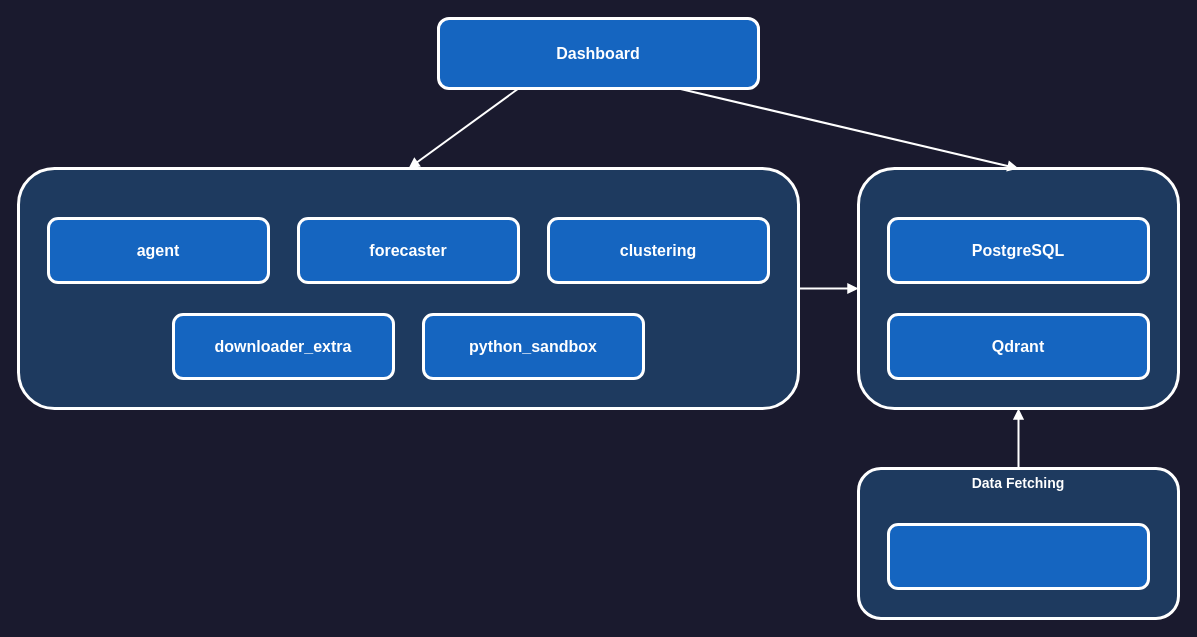
This 1197x637 diagram has some shape labels left out. Here are the shapes that lost their labels. From the top down, the box of each, then its label:
(16, 166, 800, 410): FastAPI Services
(856, 166, 1180, 410): Storage
(886, 522, 1150, 590): downloader_general
